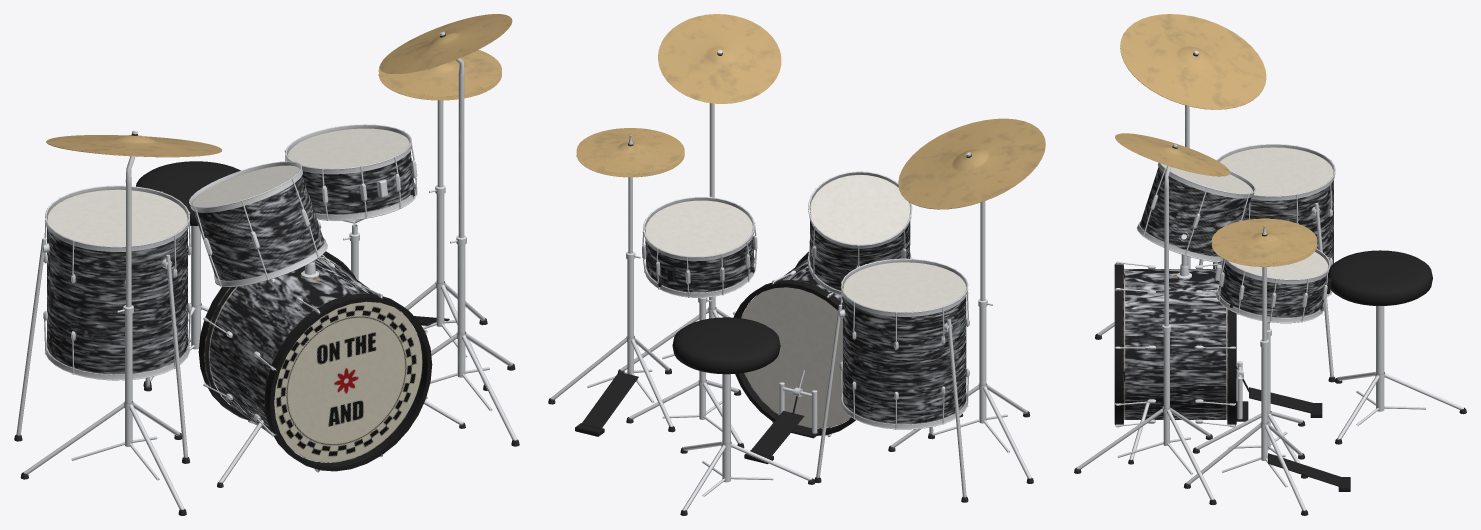
The model's file is ska_drums.glb.
3 renders of one model, left to right at view 1: azimuth 30°, elevation 25°; view 2: azimuth 150°, elevation 25°; view 3: azimuth 270°, elevation 25°, orthographic. The views are drawn at different scales.
Visible parts, largest first — view 1: dr_kick, dr_floor, dr_stands, dr_tom, dr_snare, dr_crash, dr_hh_top, dr_ride, dr_hh_bottom; view 2: dr_floor, dr_stands, dr_kick, dr_snare, dr_ride, dr_tom, dr_crash, dr_hh_top; view 3: dr_kick, dr_stands, dr_ride, dr_floor, dr_tom, dr_snare, dr_hh_top, dr_crash.
Boxes of the visible parts, bbox=[...] form: dr_kick: bbox=[198, 251, 465, 487]; dr_floor: bbox=[14, 185, 191, 463]; dr_stands: bbox=[20, 31, 519, 515]; dr_tom: bbox=[188, 161, 327, 286]; dr_snare: bbox=[284, 124, 417, 220]; dr_crash: bbox=[380, 14, 512, 73]; dr_hh_top: bbox=[378, 50, 501, 96]; dr_ride: bbox=[46, 134, 221, 157]; dr_hh_bottom: bbox=[378, 73, 501, 100]; dr_floor: bbox=[814, 258, 969, 502]; dr_stands: bbox=[548, 50, 1033, 515]; dr_kick: bbox=[733, 251, 963, 436]; dr_snare: bbox=[642, 196, 757, 297]; dr_ride: bbox=[898, 118, 1045, 209]; dr_tom: bbox=[807, 171, 912, 295]; dr_crash: bbox=[658, 14, 781, 103]; dr_hh_top: bbox=[576, 128, 684, 173]; dr_kick: bbox=[1114, 261, 1236, 464]; dr_stands: bbox=[1074, 50, 1466, 515]; dr_ride: bbox=[1120, 14, 1266, 109]; dr_floor: bbox=[1199, 144, 1335, 382]; dr_tom: bbox=[1137, 162, 1255, 266]; dr_snare: bbox=[1215, 248, 1331, 323]; dr_hh_top: bbox=[1211, 218, 1317, 263]; dr_crash: bbox=[1115, 133, 1230, 176].
Bounding box in the file's own units: 1.7 × 1.25 × 1.32.
1 material, 1 textured.
